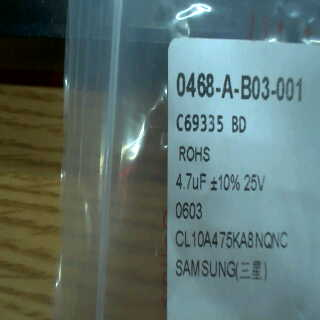4.7uF: (174, 169, 208, 194)
